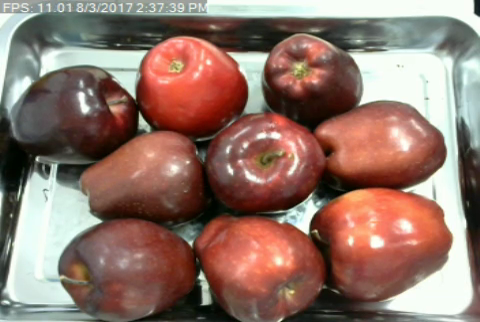Apple: (307, 185, 458, 301), (188, 211, 329, 321), (53, 217, 203, 317), (8, 61, 141, 167), (201, 108, 328, 216), (77, 127, 211, 229), (308, 97, 448, 193), (134, 33, 252, 143), (259, 31, 366, 125)
